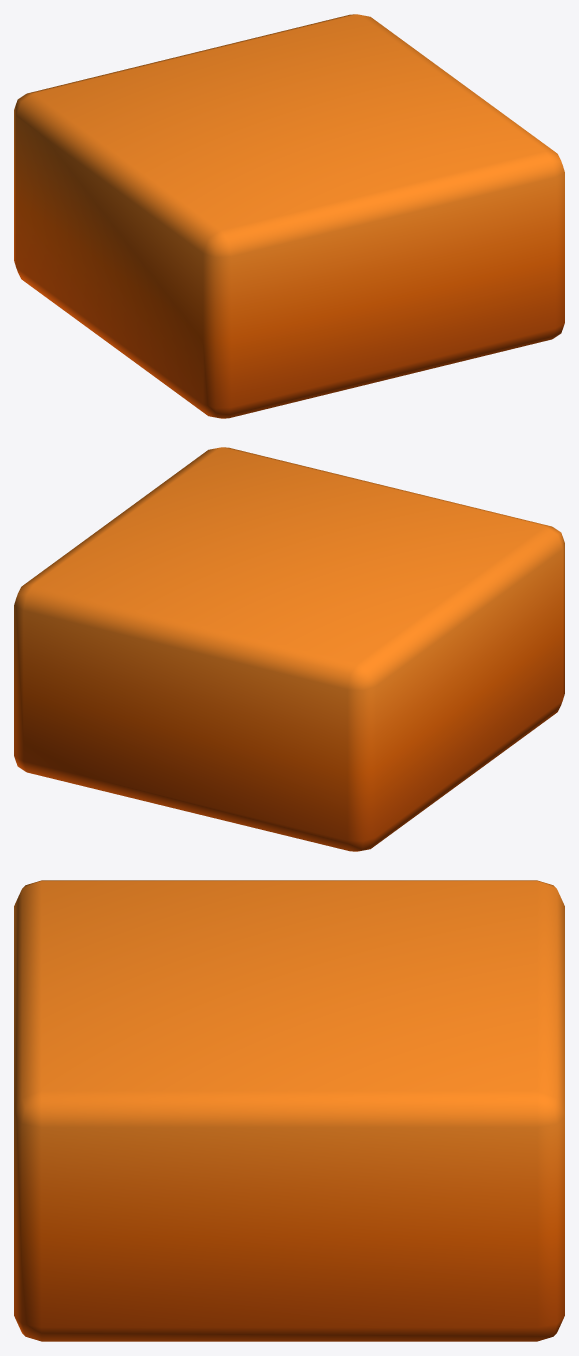
The model's file is 3D_Tile_Ground_03A.glb.
3 views of the same model, one above another, from view 1: azimuth 30°, elevation 25°; view 2: azimuth 150°, elevation 25°; view 3: azimuth 270°, elevation 25° (orthographic). The views are drawn at different scales.
Visible parts, largest first — view 1: 3D_Tile_Ground_03A; view 2: 3D_Tile_Ground_03A; view 3: 3D_Tile_Ground_03A.
Boxes of the visible parts, bbox=[...] form: 3D_Tile_Ground_03A: bbox=[14, 14, 564, 418]; 3D_Tile_Ground_03A: bbox=[14, 447, 564, 851]; 3D_Tile_Ground_03A: bbox=[14, 880, 564, 1341].
Bounding box in the file's own units: 2 × 1 × 2.
Materials: 1 (1 with a texture image).
